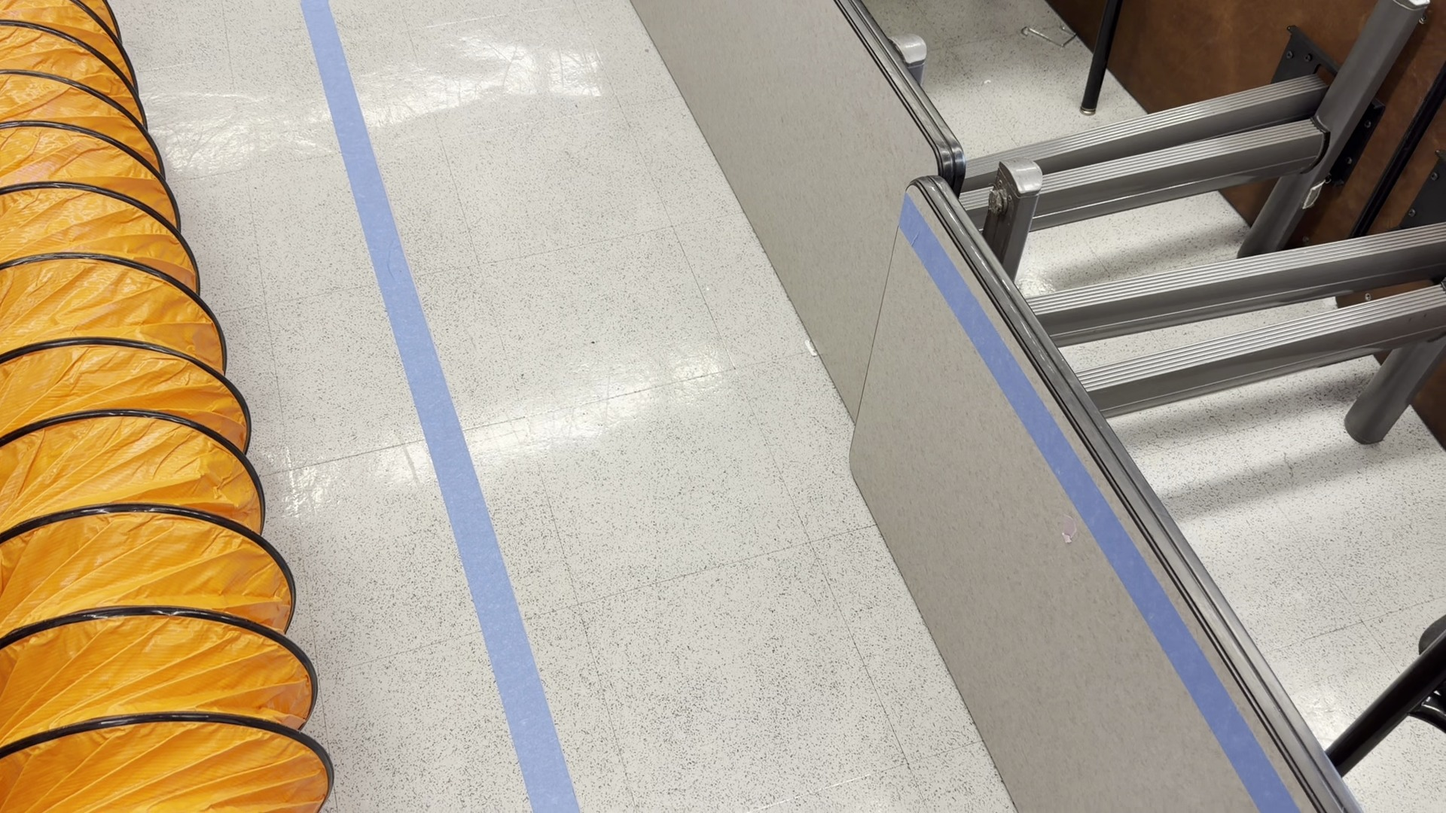racecar: (639, 4, 1444, 813)
